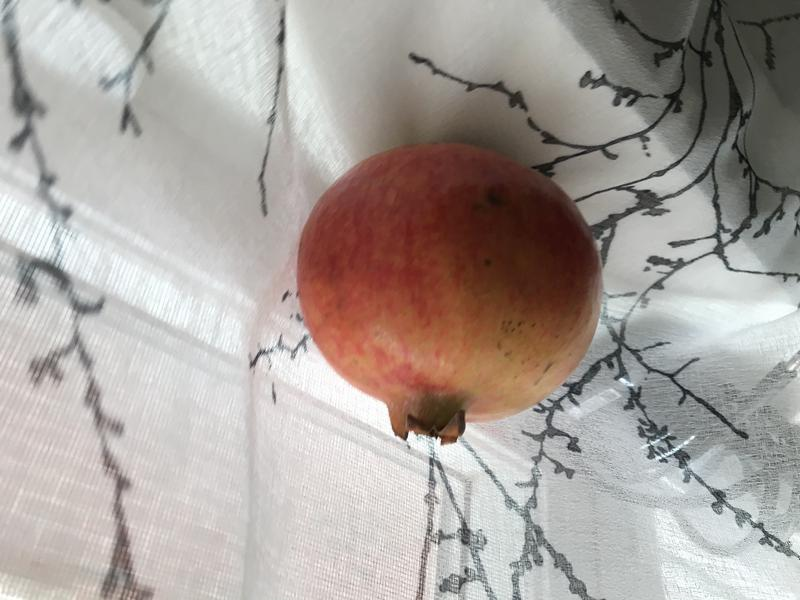pomegranate: (270, 137, 618, 465)
